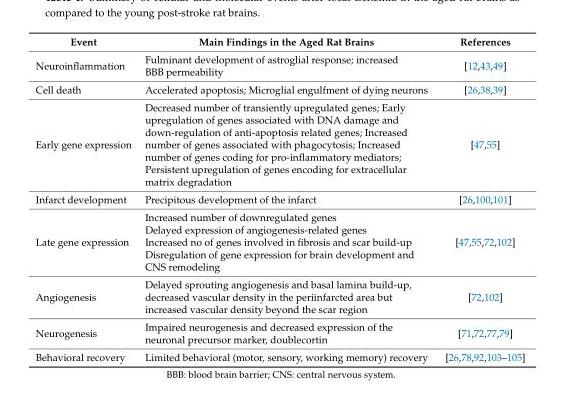table: (34, 34, 524, 362)
table column: (137, 34, 435, 362), (34, 34, 137, 362), (435, 34, 524, 362)
table column header: (34, 34, 524, 50)
table row: (34, 97, 524, 189), (34, 207, 524, 275), (34, 275, 524, 317), (34, 50, 524, 80), (34, 317, 524, 347), (34, 189, 524, 207), (34, 80, 524, 97), (34, 34, 524, 50), (34, 347, 524, 362)
